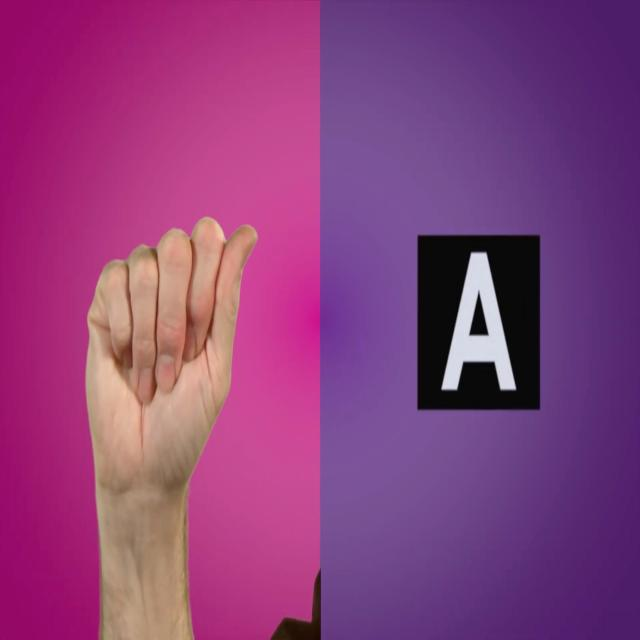A: (61, 188, 271, 636)
